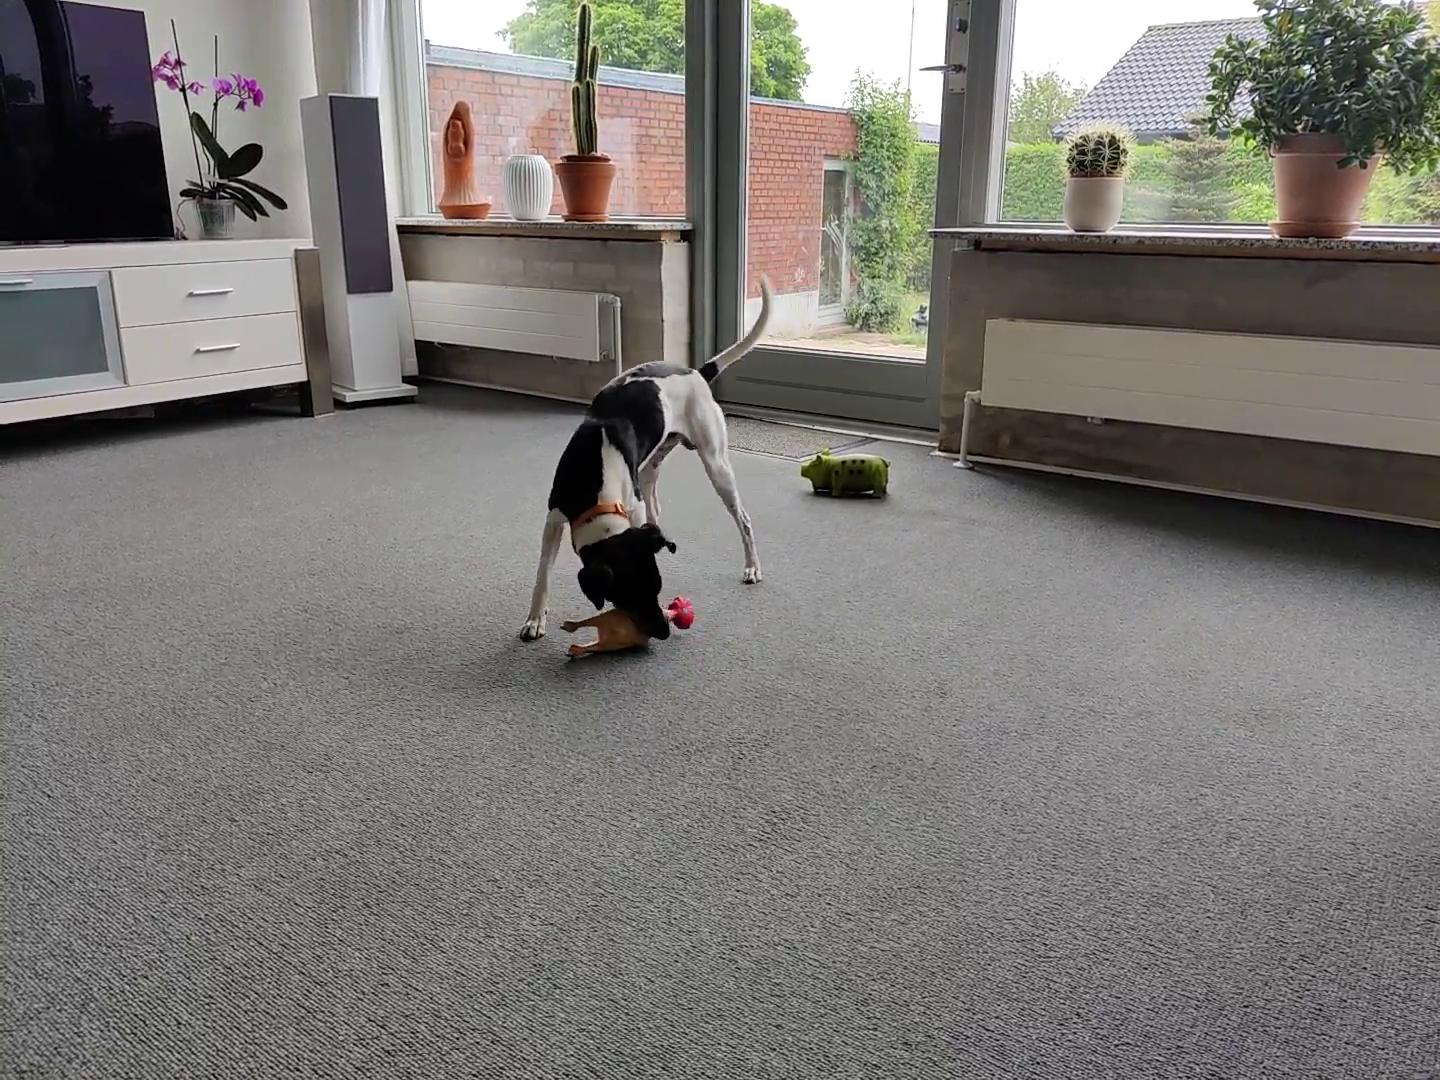Dog: (513, 273, 774, 649)
